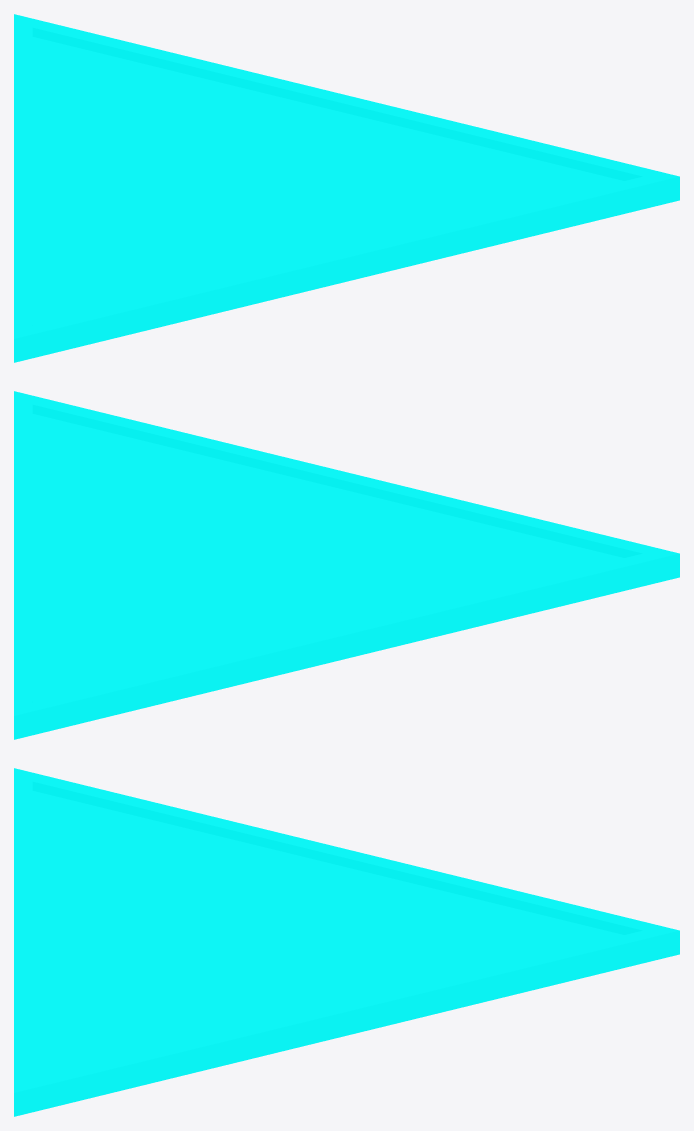
The model's file is SFI0310030.fbx.
3 views of the same model, one above another, from view 1: azimuth 30°, elevation 25°; view 2: azimuth 150°, elevation 25°; view 3: azimuth 270°, elevation 25° (orthographic).
Visible parts, largest first — view 1: smSFI0310030; view 2: smSFI0310030; view 3: smSFI0310030.
Boxes of the visible parts, left/top/right/bottom form: smSFI0310030: left=14, top=14, right=679, bottom=362; smSFI0310030: left=14, top=391, right=679, bottom=739; smSFI0310030: left=14, top=768, right=679, bottom=1116.
Bounding box in the file's own units: 173 × 5.93 × 150.
